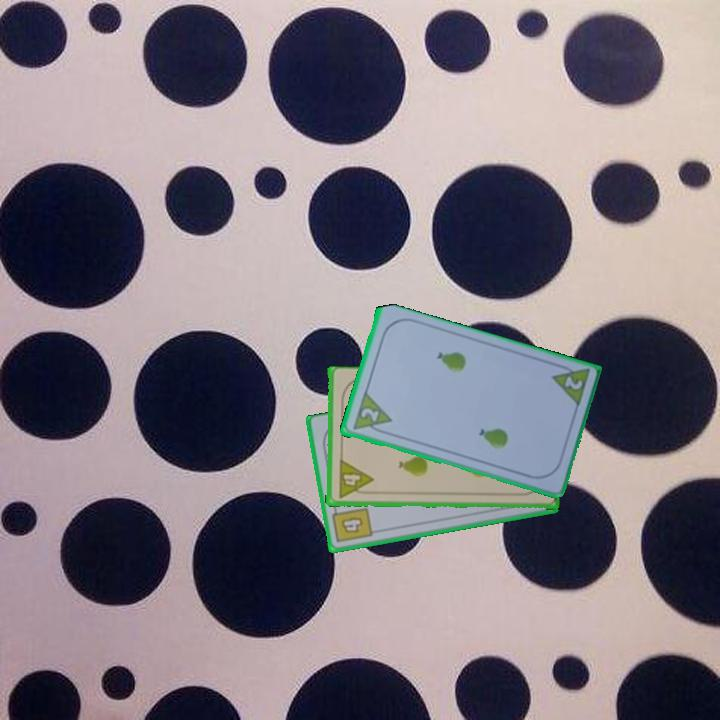2p: (349, 390, 394, 438), (560, 372, 585, 393)
4b: (329, 503, 375, 546)
4p: (334, 457, 375, 502)
